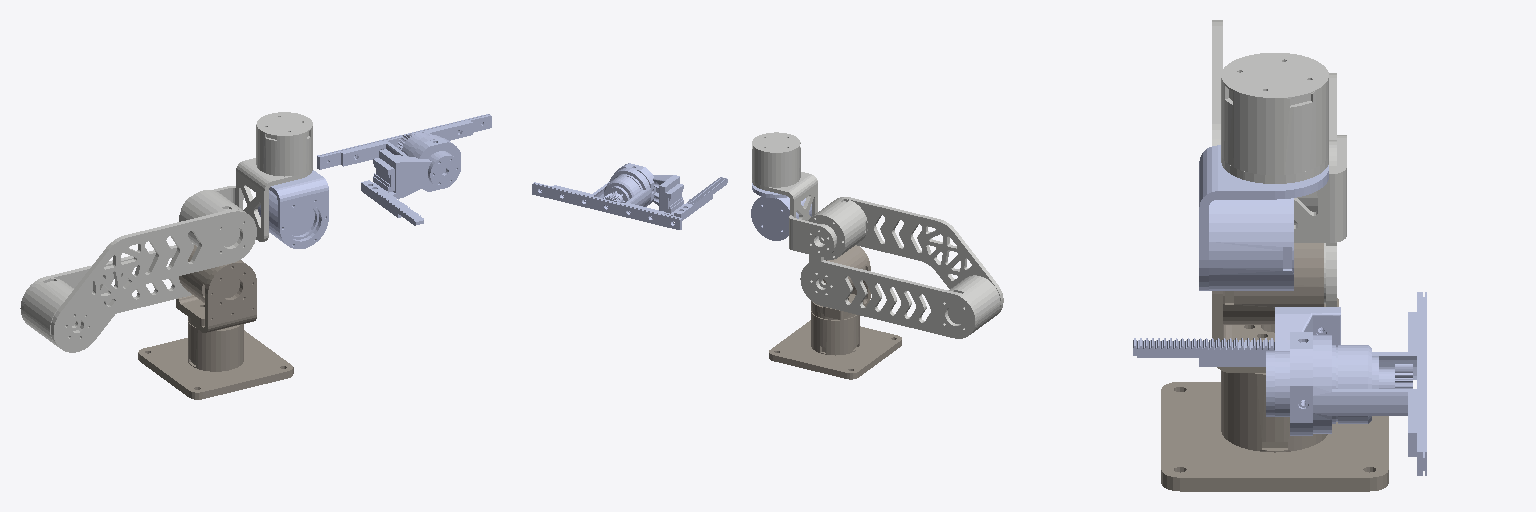
The robot description file, URDF, robot "panther_description":
<?xml version="1.0" encoding="utf-8"?>
<!-- This URDF was automatically created by SolidWorks to URDF Exporter! Originally created by [author] ([email redacted]) 
     Commit Version: 1.6.0-4-g7f85cfe  Build Version: 1.6.7995.38578
     For more information, please see http://wiki.ros.org/sw_urdf_exporter -->
<robot
  name="panther_description">
  <link
    name="base_link">
    <inertial>
      <origin
        xyz="-5.22421768267327E-17 -4.9646319201852E-06 0.00682594884114425"
        rpy="0 0 0" />
      <mass
        value="1.00980967249859" />
      <inertia
        ixx="0.00110668630953746"
        ixy="1.28862263174568E-19"
        ixz="-3.2127004428854E-21"
        iyy="0.0011065522944672"
        iyz="-8.45296879697751E-08"
        izz="0.00216887903845609" />
    </inertial>
    <visual>
      <origin
        xyz="0 0 0"
        rpy="0 0 0" />
      <geometry>
        <mesh
          filename="..//meshes/base_link.STL" />
      </geometry>
      <material
        name="">
        <color
          rgba="0.647058823529412 0.619607843137255 0.588235294117647 1" />
      </material>
    </visual>
    <collision>
      <origin
        xyz="0 0 0"
        rpy="0 0 0" />
      <geometry>
        <mesh
          filename="..//meshes/base_link.STL" />
      </geometry>
    </collision>
  </link>
  <link
    name="link1">
    <inertial>
      <origin
        xyz="-0.000140138460727448 -0.0115178455380478 -0.0189175974816606"
        rpy="0 0 0" />
      <mass
        value="0.433540348958132" />
      <inertia
        ixx="0.000278935703826545"
        ixy="1.25625050632852E-06"
        ixz="6.95888805367088E-08"
        iyy="0.000266771663216221"
        iyz="6.1414956964764E-05"
        izz="0.000227700191108933" />
    </inertial>
    <visual>
      <origin
        xyz="0 0 0"
        rpy="0 0 0" />
      <geometry>
        <mesh
          filename="..//meshes/link1.STL" />
      </geometry>
      <material
        name="">
        <color
          rgba="0.647058823529412 0.619607843137255 0.588235294117647 1" />
      </material>
    </visual>
    <collision>
      <origin
        xyz="0 0 0"
        rpy="0 0 0" />
      <geometry>
        <mesh
          filename="..//meshes/link1.STL" />
      </geometry>
    </collision>
  </link>
  <joint
    name="joint1"
    type="revolute">
    <origin
      xyz="0 0 0.1005"
      rpy="0 0 0" />
    <parent
      link="base_link" />
    <child
      link="link1" />
    <axis
      xyz="0 0 1" />
    <limit
      lower="-3.14"
      upper="3.14"
      effort="3"
      velocity="1" />
  </joint>
  <link
    name="link2">
    <inertial>
      <origin
        xyz="0.106425438295557 -3.80251385934116E-12 0.0236077558477278"
        rpy="0 0 0" />
      <mass
        value="0.618785138060723" />
      <inertia
        ixx="0.000203520214080601"
        ixy="2.79264055058398E-19"
        ixz="-1.05315902249166E-07"
        iyy="0.00224499671569178"
        iyz="1.32814298453241E-20"
        izz="0.00238696841123224" />
    </inertial>
    <visual>
      <origin
        xyz="0 0 0"
        rpy="0 0 0" />
      <geometry>
        <mesh
          filename="..//meshes/link2.STL" />
      </geometry>
      <material
        name="">
        <color
          rgba="0.827450980392157 0.827450980392157 0.819607843137255 1" />
      </material>
    </visual>
    <collision>
      <origin
        xyz="0 0 0"
        rpy="0 0 0" />
      <geometry>
        <mesh
          filename="..//meshes/link2.STL" />
      </geometry>
    </collision>
  </link>
  <joint
    name="joint2"
    type="revolute">
    <origin
      xyz="0 0 0"
      rpy="1.5707963267949 0 3.14159265358979" />
    <parent
      link="link1" />
    <child
      link="link2" />
    <axis
      xyz="0 0 1" />
    <limit
      lower="-3.14"
      upper="3.14"
      effort="3"
      velocity="1" />
  </joint>
  <link
    name="link3">
    <inertial>
      <origin
        xyz="0.112947841031452 0.0109257169593898 0.0234930652223882"
        rpy="0 0 0" />
      <mass
        value="0.578438290721478" />
      <inertia
        ixx="0.000268057561475191"
        ixy="2.74601930728987E-05"
        ixz="3.17939972597626E-08"
        iyy="0.00216726923713696"
        iyz="1.00402096614883E-07"
        izz="0.0023748322005515" />
    </inertial>
    <visual>
      <origin
        xyz="0 0 0"
        rpy="0 0 0" />
      <geometry>
        <mesh
          filename="..//meshes/link3.STL" />
      </geometry>
      <material
        name="">
        <color
          rgba="0.827450980392157 0.827450980392157 0.819607843137255 1" />
      </material>
    </visual>
    <collision>
      <origin
        xyz="0 0 0"
        rpy="0 0 0" />
      <geometry>
        <mesh
          filename="..//meshes/link3.STL" />
      </geometry>
    </collision>
  </link>
  <joint
    name="joint3"
    type="revolute">
    <origin
      xyz="0.179999999999998 0 0"
      rpy="3.14159265358979 0 2.83491633418811" />
    <parent
      link="link2" />
    <child
      link="link3" />
    <axis
      xyz="0 0 1" />
    <limit
      lower="-3.14"
      upper="3.14"
      effort="3"
      velocity="1" />
  </joint>
  <link
    name="link4">
    <inertial>
      <origin
        xyz="0.0513406245602283 -0.0329058384127011 0.00868209734629183"
        rpy="0 0 0" />
      <mass
        value="0.399529174718196" />
      <inertia
        ixx="0.000329818055330246"
        ixy="0.000104110882896881"
        ixz="8.09376058698959E-05"
        iyy="0.0003603735383472"
        iyz="-6.00949681992951E-05"
        izz="0.000376825850928194" />
    </inertial>
    <visual>
      <origin
        xyz="0 0 0"
        rpy="0 0 0" />
      <geometry>
        <mesh
          filename="..//meshes/link4.STL" />
      </geometry>
      <material
        name="">
        <color
          rgba="0.827450980392157 0.827450980392157 0.819607843137255 1" />
      </material>
    </visual>
    <collision>
      <origin
        xyz="0 0 0"
        rpy="0 0 0" />
      <geometry>
        <mesh
          filename="..//meshes/link4.STL" />
      </geometry>
    </collision>
  </link>
  <joint
    name="joint4"
    type="revolute">
    <origin
      xyz="0.188809427730714 0 0"
      rpy="3.14159265358979 0 -0.306676319401685" />
    <parent
      link="link3" />
    <child
      link="link4" />
    <axis
      xyz="0 0 1" />
    <limit
      lower="-3.14"
      upper="3.14"
      effort="3"
      velocity="1" />
  </joint>
  <link
    name="link5">
    <inertial>
      <origin
        xyz="2.62314297356869E-16 -0.0160776069634142 -0.0180581657290753"
        rpy="0 0 0" />
      <mass
        value="0.321861622200536" />
      <inertia
        ixx="0.000192352594219116"
        ixy="-9.24994896376521E-20"
        ixz="2.36149112675264E-21"
        iyy="0.000171651346378433"
        iyz="4.05707603604006E-05"
        izz="0.000185377128431133" />
    </inertial>
    <visual>
      <origin
        xyz="0 0 0"
        rpy="0 0 0" />
      <geometry>
        <mesh
          filename="..//meshes/link5.STL" />
      </geometry>
      <material
        name="">
        <color
          rgba="0.792156862745098 0.819607843137255 0.933333333333333 1" />
      </material>
    </visual>
    <collision>
      <origin
        xyz="0 0 0"
        rpy="0 0 0" />
      <geometry>
        <mesh
          filename="..//meshes/link5.STL" />
      </geometry>
    </collision>
  </link>
  <joint
    name="joint5"
    type="revolute">
    <origin
      xyz="0.08 0 0"
      rpy="-1.5708 1.5708 0" />
    <parent
      link="link4" />
    <child
      link="link5" />
    <axis
      xyz="0 0 1" />
    <limit
      lower="-3.14"
      upper="3.14"
      effort="3"
      velocity="1" />
  </joint>
  <link
    name="link6">
    <inertial>
      <origin
        xyz="-4.35824622879912E-15 -2.3037127760972E-15 -0.0025000000000041"
        rpy="0 0 0" />
      <mass
        value="0.00434717883440458" />
      <inertia
        ixx="3.56917077685088E-07"
        ixy="1.21411373112006E-21"
        ixz="-8.99654936865443E-22"
        iyy="3.56917077685087E-07"
        iyz="2.51615306815575E-22"
        izz="6.95720910226822E-07" />
    </inertial>
    <visual>
      <origin
        xyz="0 0 0"
        rpy="0 0 0" />
      <geometry>
        <mesh
          filename="..//meshes/link6.STL" />
      </geometry>
      <material
        name="">
        <color
          rgba="0.827450980392157 0.827450980392157 0.819607843137255 1" />
      </material>
    </visual>
    <collision>
      <origin
        xyz="0 0 0"
        rpy="0 0 0" />
      <geometry>
        <mesh
          filename="..//meshes/link6.STL" />
      </geometry>
    </collision>
  </link>
  <joint
    name="joint6"
    type="revolute">
    <origin
      xyz="0 -0.036 0"
      rpy="1.5708 0 0" />
    <parent
      link="link5" />
    <child
      link="link6" />
    <axis
      xyz="0 0 1" />
    <limit
      lower="-3.14"
      upper="3.14"
      effort="3"
      velocity="1" />
  </joint>
  <link
    name="gripper_centor_link">
    <inertial>
      <origin
        xyz="-0.107107907434468 -0.000284330630565321 -3.59780083918573E-09"
        rpy="0 0 0" />
      <mass
        value="0.105344961426715" />
      <inertia
        ixx="0.000121501833753841"
        ixy="-5.32591777920033E-07"
        ixz="-1.30991455486E-12"
        iyy="0.000131132833025858"
        iyz="-1.22715670298721E-16"
        izz="3.14014892995729E-05" />
    </inertial>
    <visual>
      <origin
        xyz="0 0 0"
        rpy="0 0 0" />
      <geometry>
        <mesh
          filename="..//meshes/gripper_centor_link.STL" />
      </geometry>
      <material
        name="">
        <color
          rgba="0.792156862745098 0.819607843137255 0.933333333333333 1" />
      </material>
    </visual>
    <collision>
      <origin
        xyz="0 0 0"
        rpy="0 0 0" />
      <geometry>
        <mesh
          filename="..//meshes/gripper_centor_link.STL" />
      </geometry>
    </collision>
  </link>
  <joint
    name="gripper_centor_joint"
    type="fixed">
    <origin
      xyz="0 0 0.148"
      rpy="0 -1.5708 0" />
    <parent
      link="link6" />
    <child
      link="gripper_centor_link" />
    <axis
      xyz="0 0 0" />
    <limit
      lower="-3.14"
      upper="3.14"
      effort="3"
      velocity="1" />
  </joint>
  <link
    name="gripper_1_link">
    <inertial>
      <origin
        xyz="-0.0574118738630709 0.00266477929541095 0.00735600840817693"
        rpy="0 0 0" />
      <mass
        value="0.0426889603072748" />
      <inertia
        ixx="1.52455723699562E-05"
        ixy="6.72945744056607E-07"
        ixz="6.51636208168844E-07"
        iyy="1.58145426336727E-05"
        iyz="8.66924269315344E-07"
        izz="1.07532838710952E-05" />
    </inertial>
    <visual>
      <origin
        xyz="0 0 0"
        rpy="0 0 0" />
      <geometry>
        <mesh
          filename="..//meshes/gripper_1_link.STL" />
      </geometry>
      <material
        name="">
        <color
          rgba="0.792156862745098 0.819607843137255 0.933333333333333 1" />
      </material>
    </visual>
    <collision>
      <origin
        xyz="0 0 0"
        rpy="0 0 0" />
      <geometry>
        <mesh
          filename="..//meshes/gripper_1_link.STL" />
      </geometry>
    </collision>
  </link>
  <joint
    name="gripper_1_joint"
    type="prismatic">
    <origin
      xyz="0 0 0.148"
      rpy="0 -1.5708 0" />
    <parent
      link="link6" />
    <child
      link="gripper_1_link" />
    <axis
      xyz="0 0 1" />
    <limit
      lower="0"
      upper="0.06"
      effort="0.18"
      velocity="1" />
  </joint>
  <link
    name="gripper_2_link">
    <inertial>
      <origin
        xyz="-0.0573873207529981 -0.00294326456557495 -0.00756965143896882"
        rpy="0 0 0" />
      <mass
        value="0.0427537416759649" />
      <inertia
        ixx="1.51969338433752E-05"
        ixy="-6.97375756939916E-07"
        ixz="-6.45626526757555E-07"
        iyy="1.56092033290293E-05"
        iyz="8.99148024231464E-07"
        izz="1.09238615980533E-05" />
    </inertial>
    <visual>
      <origin
        xyz="0 0 0"
        rpy="0 0 0" />
      <geometry>
        <mesh
          filename="..//meshes/gripper_2_link.STL" />
      </geometry>
      <material
        name="">
        <color
          rgba="0.792156862745098 0.819607843137255 0.933333333333333 1" />
      </material>
    </visual>
    <collision>
      <origin
        xyz="0 0 0"
        rpy="0 0 0" />
      <geometry>
        <mesh
          filename="..//meshes/gripper_2_link.STL" />
      </geometry>
    </collision>
  </link>
  <joint
    name="gripper_2_joint"
    type="prismatic">
    <origin
      xyz="0 0 0.148"
      rpy="0 -1.5708 0" />
    <parent
      link="link6" />
    <child
      link="gripper_2_link" />
    <axis
      xyz="0 0 1" />
    <limit
      lower="0"
      upper="0.06"
      effort="0.18"
      velocity="1" />
    <mimic
      joint="gripper_1_joint"
      multiplier="-1"
      offset="0" />
  </joint>
</robot>

--- What the picture shows (computed from the rendered views, not written in the file) ---
The picture shows the robot from 3 angles, left to right: view 1: azimuth 30°, elevation 25°; view 2: azimuth 150°, elevation 25°; view 3: azimuth 270°, elevation 25°; orthographic projection.
Robot: panther_description — 10 links, 9 joints (6 revolute, 2 prismatic, 1 fixed); root link base_link; default pose: every joint at zero.
Links seen in each view (by area): view 1: link3, base_link, link4, gripper_centor_link, link1, link2, link5, gripper_1_link; view 2: link2, link3, base_link, link4, gripper_centor_link, link5, gripper_1_link, link1; view 3: base_link, link4, gripper_centor_link, link5, link1, gripper_1_link, gripper_2_link, link3, link2.
Link boxes in pixels (<box>): link3: <box>51,190,256,352</box>; base_link: <box>138,321,293,399</box>; link4: <box>181,112,312,241</box>; gripper_centor_link: <box>317,114,491,191</box>; link1: <box>176,245,256,332</box>; link2: <box>20,243,193,344</box>; link5: <box>258,170,328,248</box>; gripper_1_link: <box>361,149,445,225</box>; link2: <box>800,260,1000,338</box>; link3: <box>808,197,1003,315</box>; base_link: <box>769,311,901,379</box>; link4: <box>752,132,836,262</box>; gripper_centor_link: <box>532,163,681,229</box>; link5: <box>751,183,811,240</box>; gripper_1_link: <box>653,175,727,218</box>; link1: <box>811,245,870,319</box>; base_link: <box>1161,371,1388,491</box>; link4: <box>1221,53,1346,245</box>; gripper_centor_link: <box>1266,292,1426,475</box>; link5: <box>1199,145,1328,290</box>; link1: <box>1212,243,1338,372</box>; gripper_1_link: <box>1133,307,1340,364</box>; gripper_2_link: <box>1137,310,1339,366</box>; link3: <box>1212,20,1317,224</box>; link2: <box>1324,73,1336,306</box>.
Bounding box of the posed robot: 0.5725 × 0.1552 × 0.2515 m (x, y, z).
9 mesh visuals loaded from 10 distinct referenced files (9 binary STL); not drawn: 1 (reference not matched to a file when rendering).